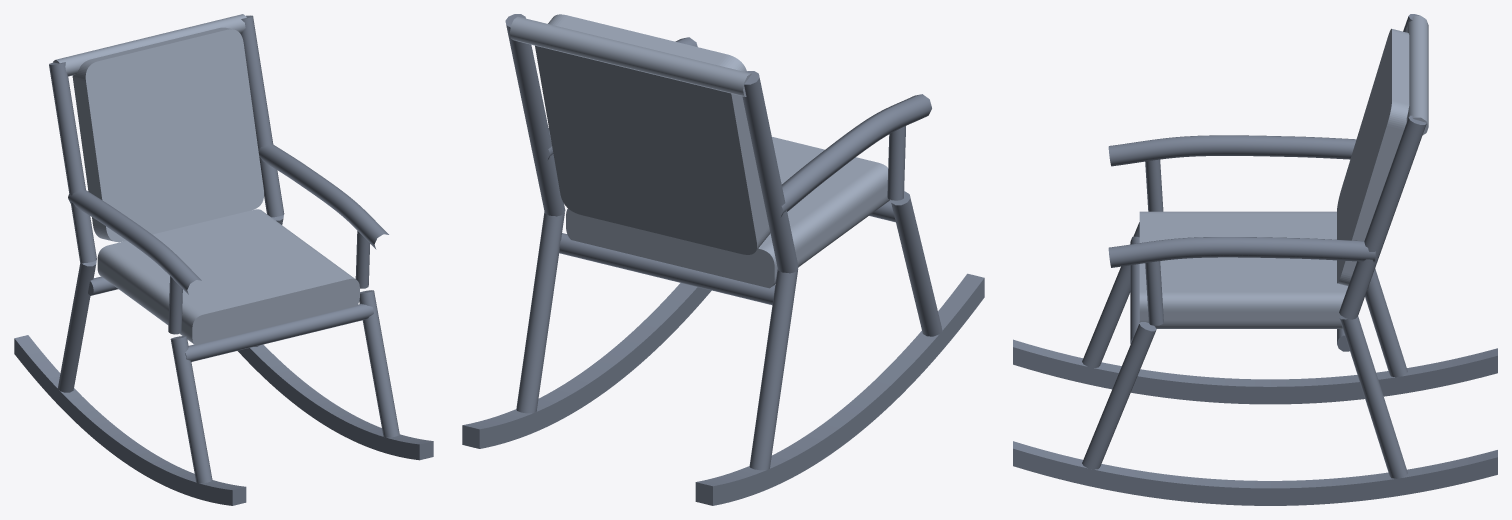
Rendered from rocking-chair-lite.glb.
The picture shows the model from 3 angles, left to right: view 1: azimuth 30°, elevation 25°; view 2: azimuth 150°, elevation 25°; view 3: azimuth 270°, elevation 25°; orthographic projection. The views are drawn at different scales.
Visible parts, largest first — view 1: rocking-chair-soft, rocking-chair-frame, rocking-chair-accent; view 2: rocking-chair-soft, rocking-chair-frame, rocking-chair-accent; view 3: rocking-chair-frame, rocking-chair-soft, rocking-chair-accent.
Part boxes in pixels (x1,y1,x2,y2): rocking-chair-soft: [72, 27, 359, 345]; rocking-chair-frame: [14, 15, 433, 505]; rocking-chair-accent: [53, 14, 246, 76]; rocking-chair-soft: [535, 14, 889, 288]; rocking-chair-frame: [462, 14, 984, 505]; rocking-chair-accent: [510, 16, 751, 96]; rocking-chair-frame: [1013, 14, 1497, 505]; rocking-chair-soft: [1139, 28, 1409, 328]; rocking-chair-accent: [1406, 16, 1428, 134].
Size of the model in its own units: 0.622 by 1.01 by 1.15.
